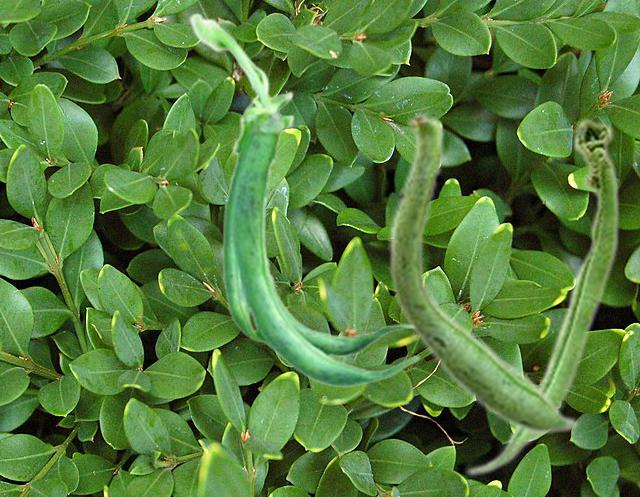french_bean: (188, 12, 419, 387), (388, 109, 578, 435), (465, 116, 619, 476)
